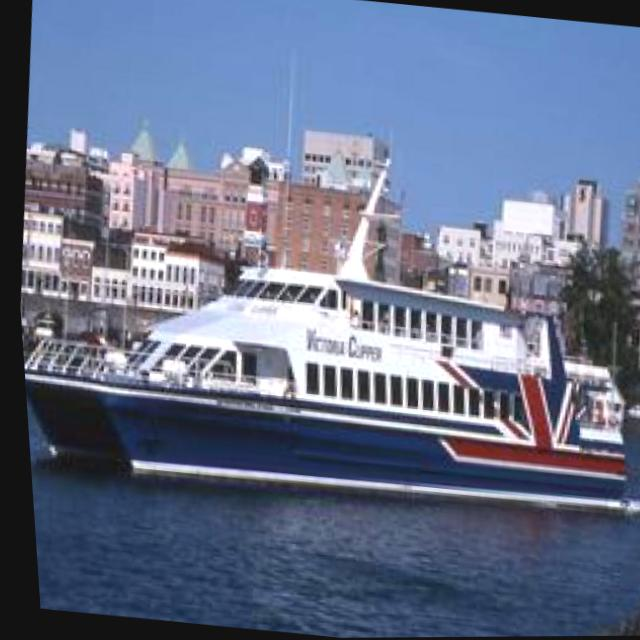ship2: (19, 176, 621, 503)
